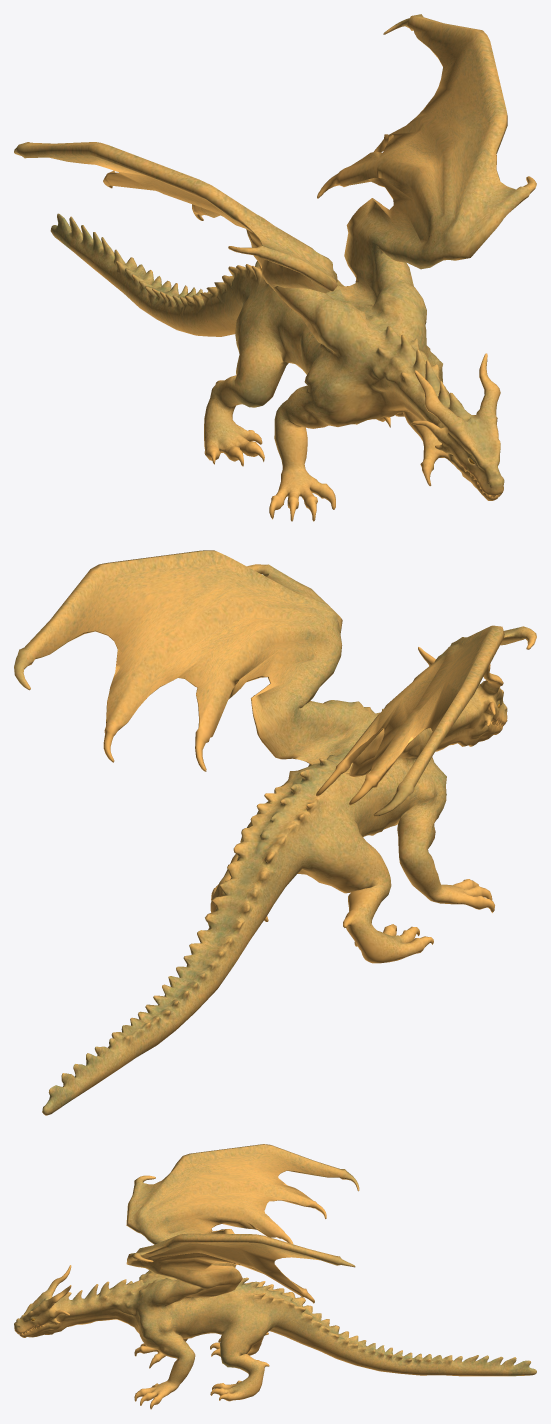
The model's file is page_trivium_dragon.glb.
3 views of the same model, one above another, from view 1: azimuth 30°, elevation 25°; view 2: azimuth 150°, elevation 25°; view 3: azimuth 270°, elevation 25° (orthographic). The views are drawn at different scales.
Visible parts, largest first — view 1: MOUNTAIN_DRAGON.002; view 2: MOUNTAIN_DRAGON.002; view 3: MOUNTAIN_DRAGON.002.
Boxes of the visible parts, bbox=[...] form: MOUNTAIN_DRAGON.002: bbox=[14, 14, 536, 521]; MOUNTAIN_DRAGON.002: bbox=[14, 550, 536, 1115]; MOUNTAIN_DRAGON.002: bbox=[14, 1144, 536, 1409].
Bounding box in the file's own units: 9 × 7.46 × 17.6.
Materials: 1 (1 with a texture image).
